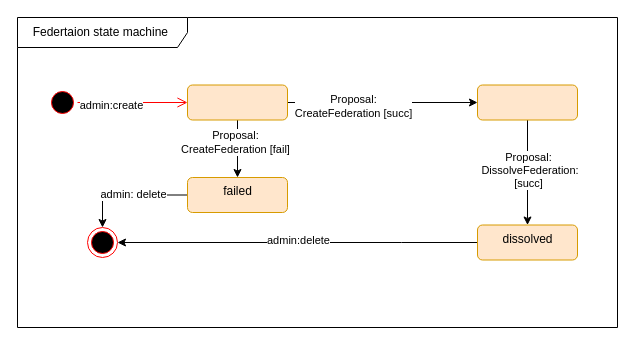
This 635x345 diagram has some shape labels left out. The centre of each missing label's shape, as x and y in pixels:
"activated" belongs at (x=527, y=102).
"pending" belongs at (x=237, y=102).
